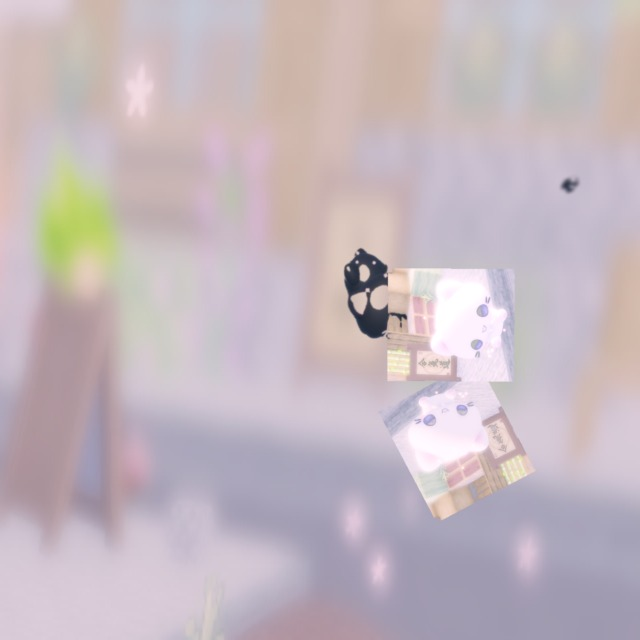urso_branco: (378, 360, 536, 523), (387, 268, 515, 382)
urso_preto: (313, 225, 444, 359), (555, 171, 585, 198)
